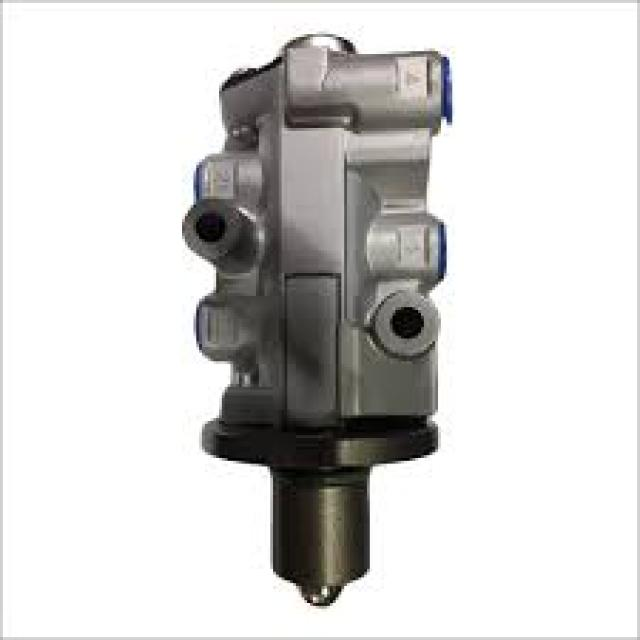video_frame: (179, 29, 455, 612)
